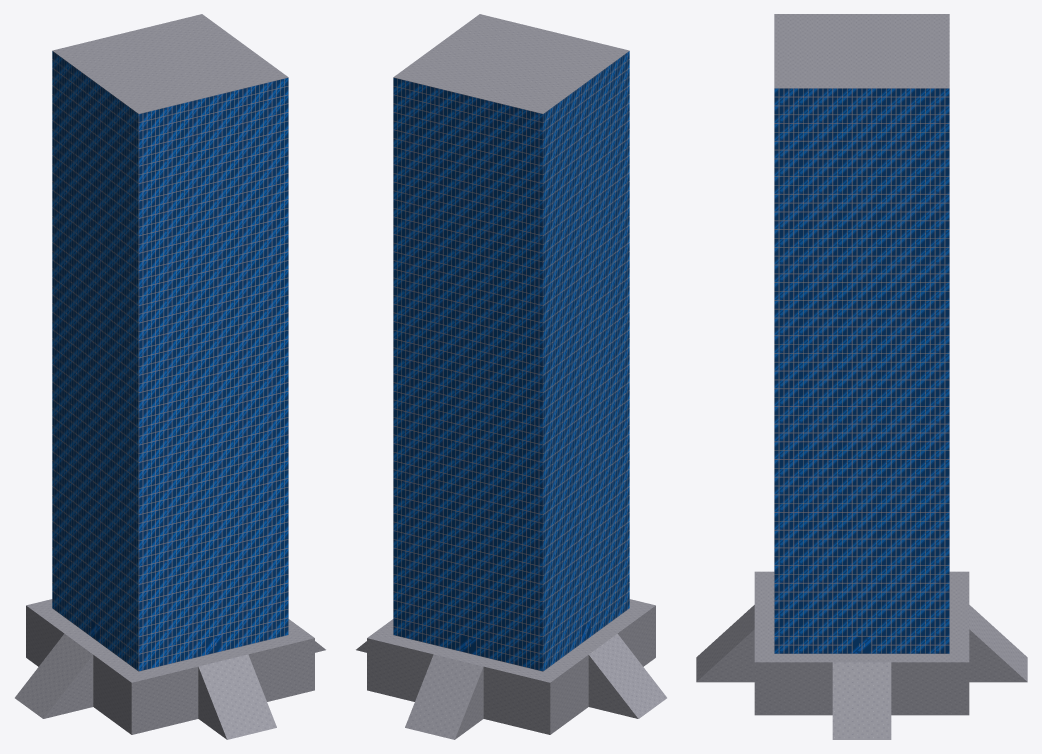
The model's file is Building_Skyscraper.fbx.
3 views of the same model, side by side, from view 1: azimuth 30°, elevation 25°; view 2: azimuth 150°, elevation 25°; view 3: azimuth 270°, elevation 25° (orthographic).
Visible parts, largest first — view 1: Building_Skyscraper001, Building_Base001; view 2: Building_Skyscraper001, Building_Base001; view 3: Building_Skyscraper001, Building_Base001.
Boxes of the visible parts, bbox=[...] form: Building_Skyscraper001: bbox=[52, 14, 288, 671]; Building_Base001: bbox=[15, 599, 325, 739]; Building_Skyscraper001: bbox=[393, 14, 629, 671]; Building_Base001: bbox=[356, 599, 666, 739]; Building_Skyscraper001: bbox=[774, 14, 949, 653]; Building_Base001: bbox=[696, 571, 1027, 739].
Size of the model in its own units: 3400 by 7000 by 3400.
